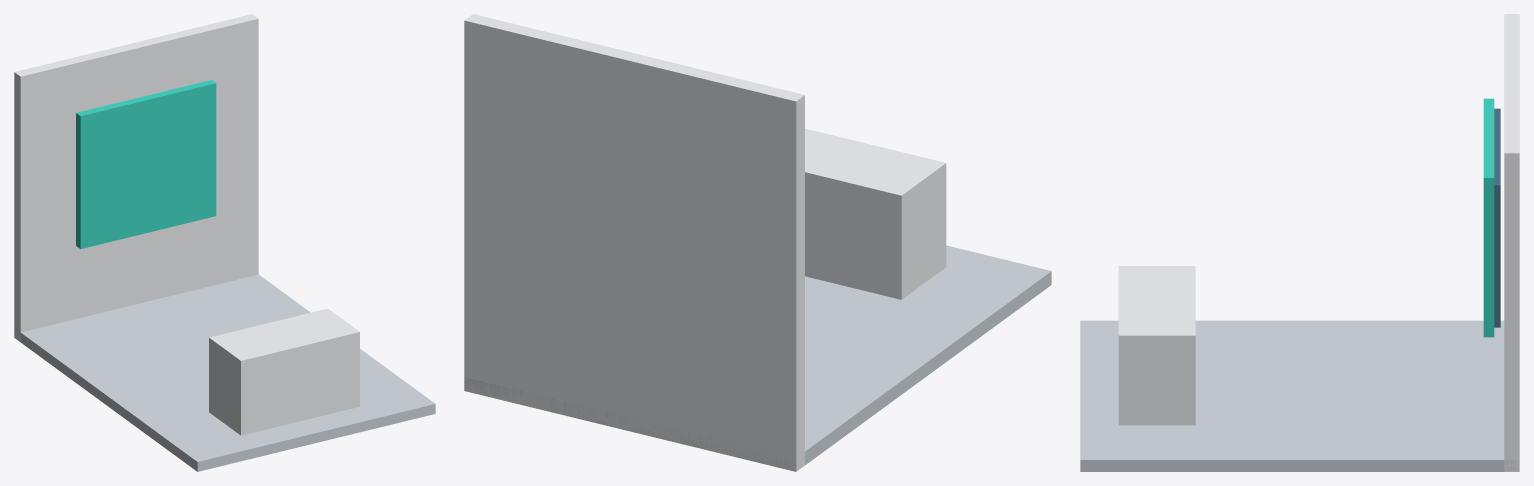
The picture shows the model from 3 angles, left to right: view 1: azimuth 30°, elevation 25°; view 2: azimuth 150°, elevation 25°; view 3: azimuth 270°, elevation 25°; orthographic projection. The views are drawn at different scales.
Visible parts, largest first — view 1: Exhibition Booth Concept; view 2: Exhibition Booth Concept; view 3: Exhibition Booth Concept.
Boxes of the visible parts, box(x1,y1,x2,y2) form: Exhibition Booth Concept: box(14, 14, 435, 471); Exhibition Booth Concept: box(464, 14, 1051, 471); Exhibition Booth Concept: box(1080, 14, 1519, 471).
Bounding box in the file's own units: 3 × 3.2 × 4.
